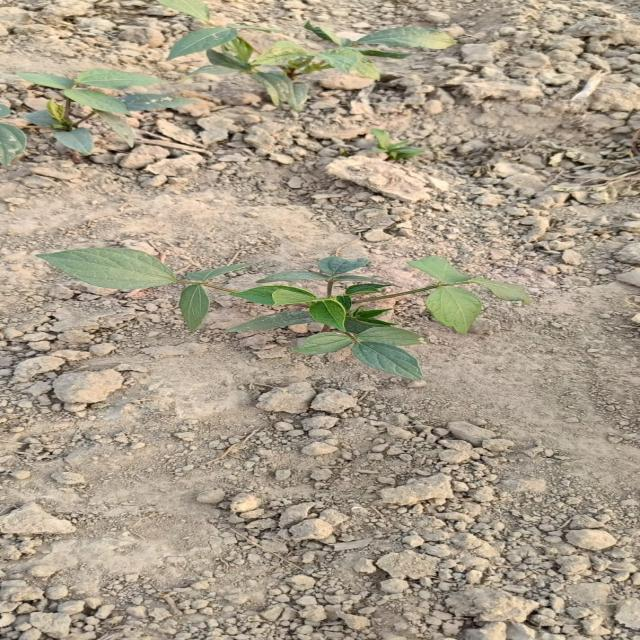plant: (36, 248, 529, 381)
